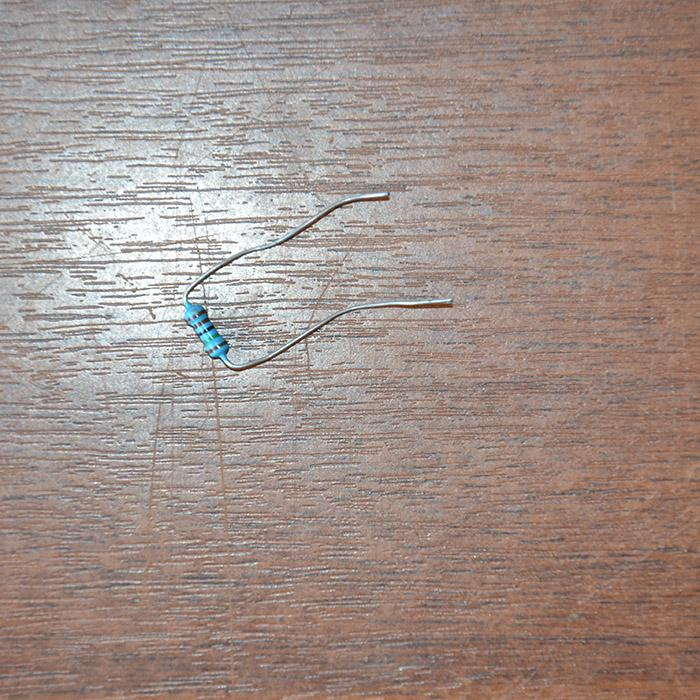resistor: (182, 300, 229, 361)
